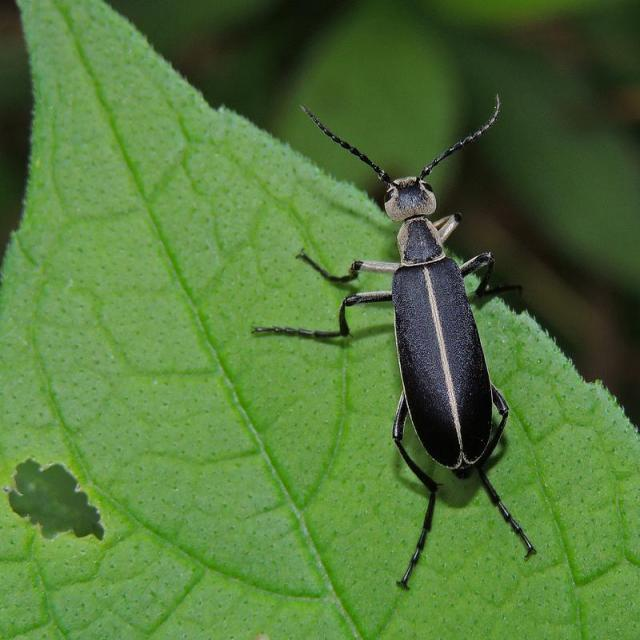BlisterBeetle-Adult-: (288, 85, 550, 568)
